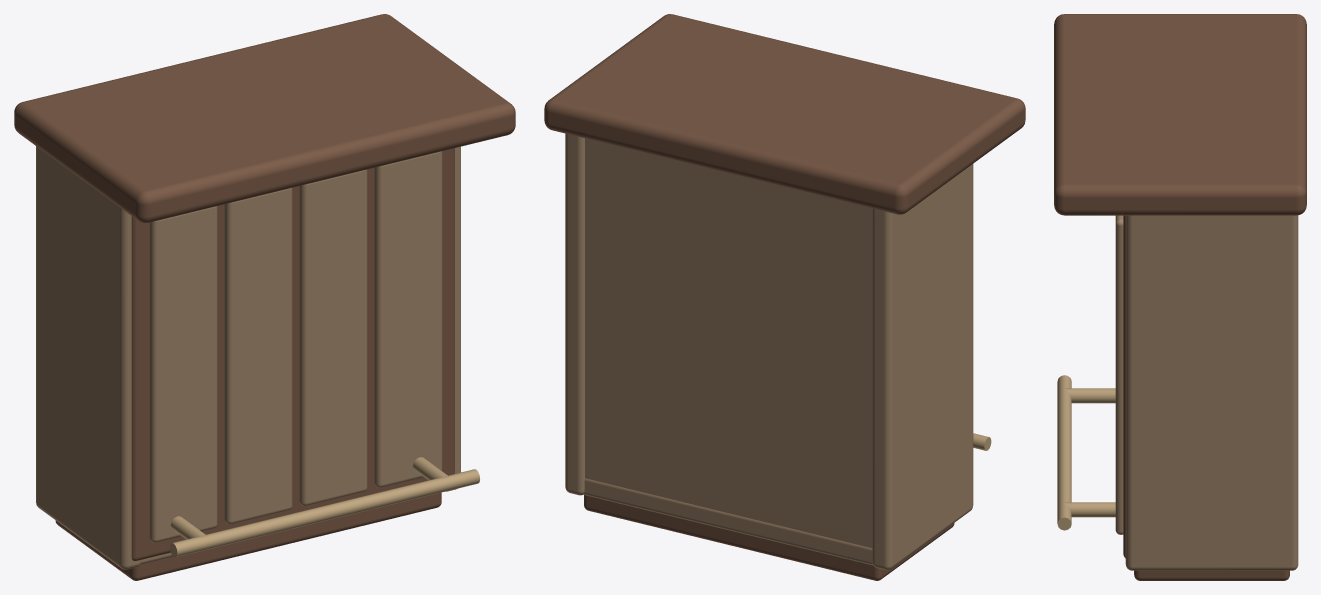
The model's file is barcounter.glb.
3 renders of one model, left to right at view 1: azimuth 30°, elevation 25°; view 2: azimuth 150°, elevation 25°; view 3: azimuth 270°, elevation 25°, orthographic. The views are drawn at different scales.
Parts seen in each view (by area): view 1: overhanging-serving-top, bar-carcass-side--1, raised-timber-panel-1, raised-timber-panel-2, raised-timber-panel-3, raised-timber-panel-0, framed-bar-front, recessed-grounded-plinth, brass-footrail, bar-carcass-side-1; view 2: bar-carcass-back, overhanging-serving-top, bar-carcass-side--1, bar-carcass-side-1, bar-carcass-base, recessed-grounded-plinth; view 3: bar-carcass-side-1, overhanging-serving-top, raised-timber-panel-3, brass-footrail, recessed-grounded-plinth, framed-bar-front, footrail-bracket--0-32, footrail-bracket-0-32.
Boxes of the visible parts, left/top/right/bottom form: overhanging-serving-top: left=14, top=14, right=515, bottom=223; bar-carcass-side--1: left=36, top=146, right=141, bottom=569; raised-timber-panel-1: left=224, top=188, right=292, bottom=524; raised-timber-panel-2: left=299, top=169, right=367, bottom=505; raised-timber-panel-3: left=374, top=151, right=442, bottom=487; raised-timber-panel-0: left=149, top=206, right=217, bottom=542; framed-bar-front: left=131, top=148, right=454, bottom=560; recessed-grounded-plinth: left=55, top=492, right=441, bottom=580; brass-footrail: left=170, top=469, right=479, bottom=557; bar-carcass-side-1: left=446, top=146, right=460, bottom=491; bar-carcass-back: left=585, top=138, right=872, bottom=547; overhanging-serving-top: left=544, top=14, right=1025, bottom=214; bar-carcass-side--1: left=872, top=164, right=973, bottom=570; bar-carcass-side-1: left=565, top=133, right=584, bottom=495; bar-carcass-base: left=583, top=478, right=872, bottom=565; recessed-grounded-plinth: left=584, top=495, right=954, bottom=580; bar-carcass-side-1: left=1125, top=215, right=1298, bottom=570; overhanging-serving-top: left=1054, top=14, right=1306, bottom=215; raised-timber-panel-3: left=1115, top=215, right=1123, bottom=534; brass-footrail: left=1057, top=375, right=1071, bottom=530; recessed-grounded-plinth: left=1134, top=570, right=1289, bottom=580; framed-bar-front: left=1123, top=215, right=1125, bottom=558; footrail-bracket--0-32: left=1064, top=388, right=1115, bottom=403; footrail-bracket-0-32: left=1064, top=502, right=1115, bottom=517.
Size of the model in its own units: 1 by 1.08 by 0.6.
